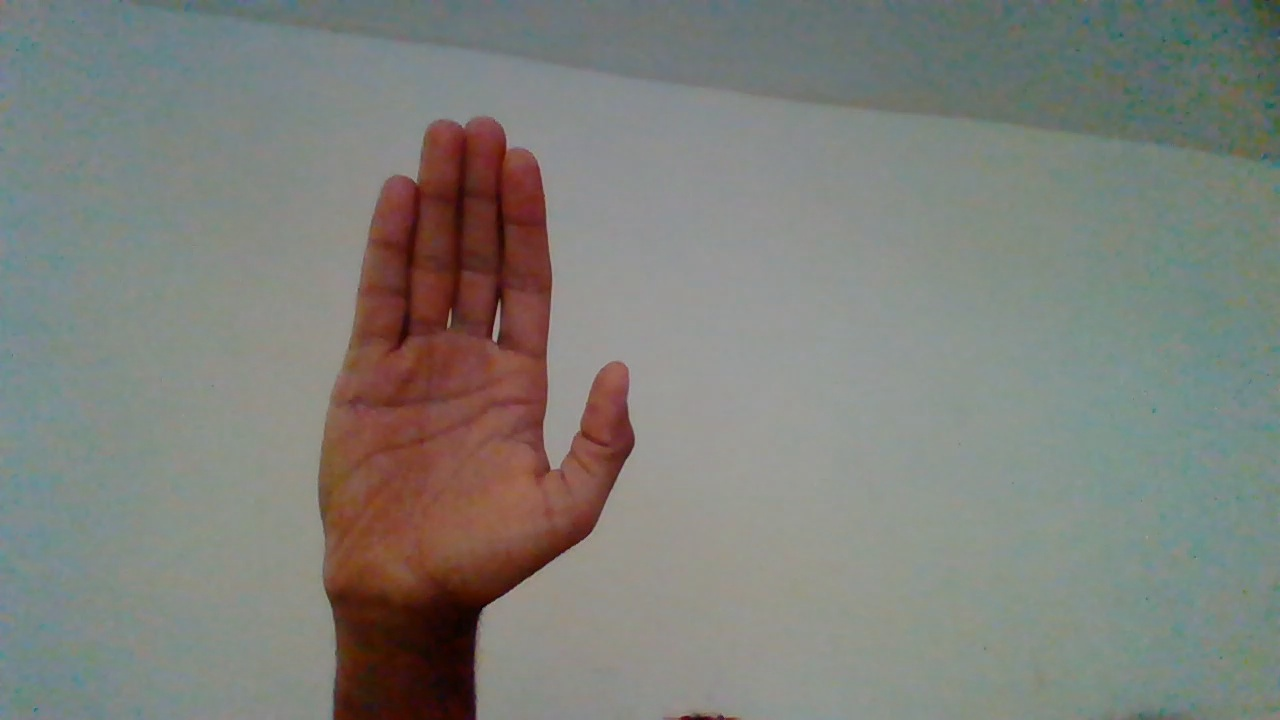ha: (316, 116, 640, 677)
